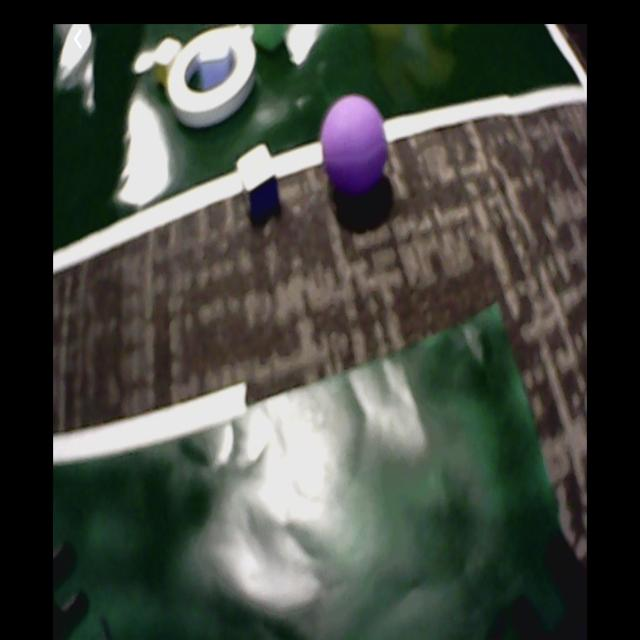ball: (323, 95, 388, 194)
